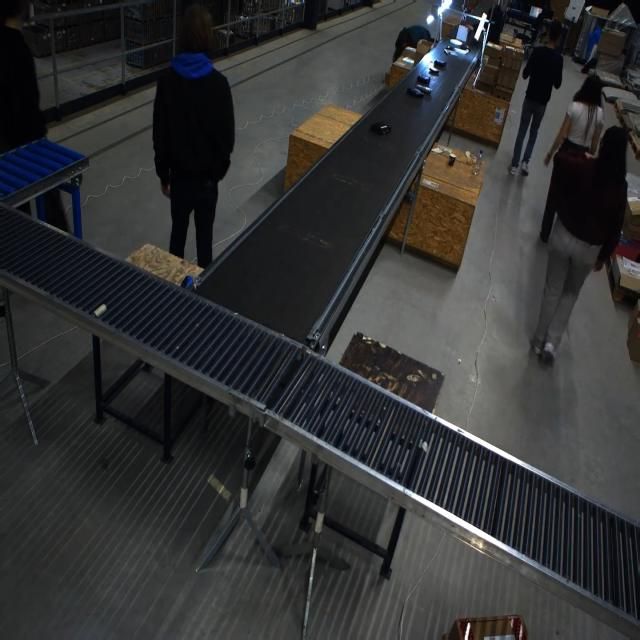product: (370, 122, 391, 135), (406, 86, 425, 98), (415, 85, 432, 94), (416, 74, 430, 84), (448, 38, 463, 47), (433, 58, 446, 67), (401, 57, 414, 65), (428, 67, 440, 75), (404, 46, 416, 54)
